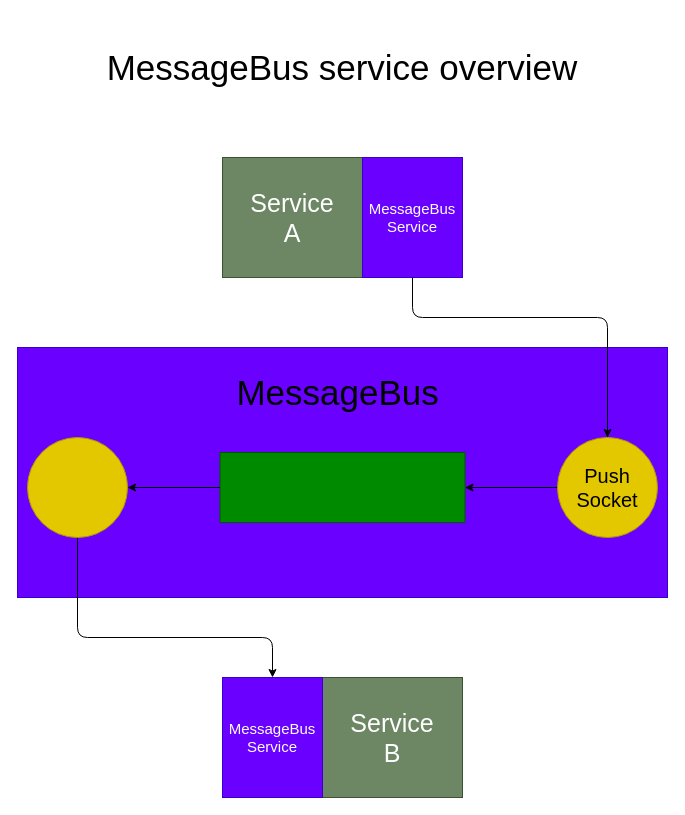
This 685x815 diagram has some shape labels left out. Each missing label, with the centre of its shape:
"Messages Queue" belongs at (342,487).
"Pull Socket" belongs at (77,487).
